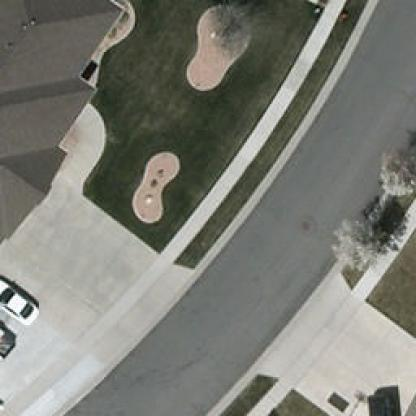car: (0, 276, 41, 325)
